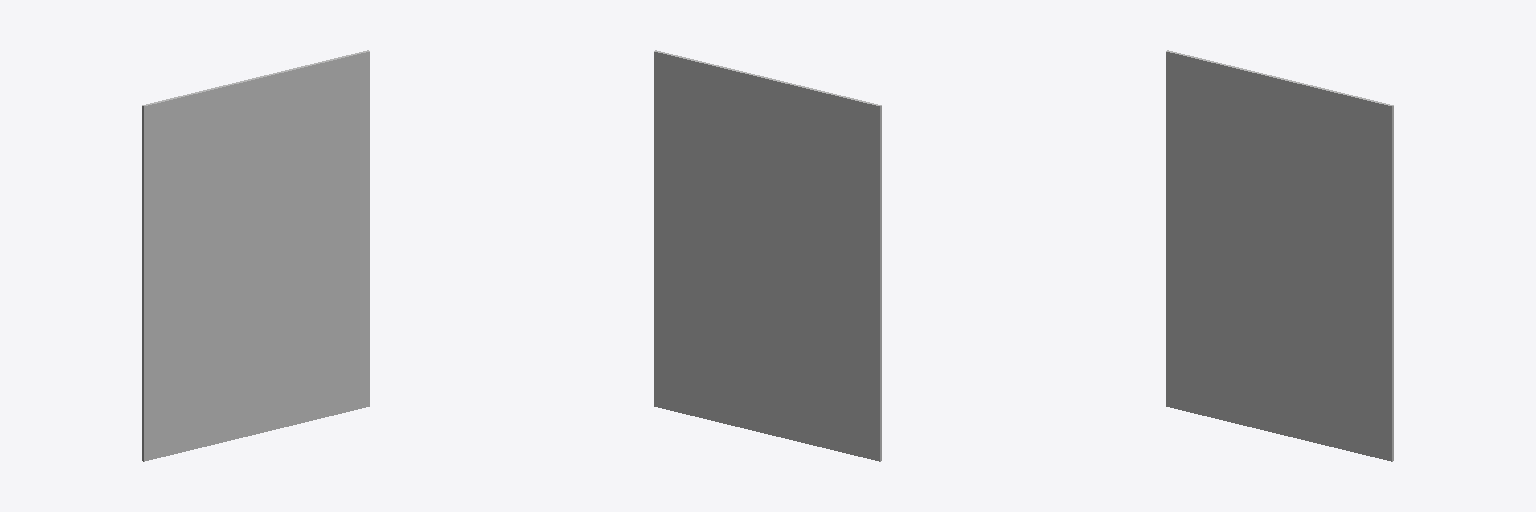
The model's file is Photo.obj.
3 views of the same model, side by side, from view 1: azimuth 30°, elevation 25°; view 2: azimuth 150°, elevation 25°; view 3: azimuth 330°, elevation 25° (orthographic).
Parts seen in each view (by area): view 1: Photo; view 2: Photo; view 3: Photo.
Boxes of the visible parts, <box> form: Photo: <box>142,50,369,461</box>; Photo: <box>654,50,881,461</box>; Photo: <box>1166,50,1393,461</box>.
Bounding box in the file's own units: 19.82 × 29.72 × 0.2588.